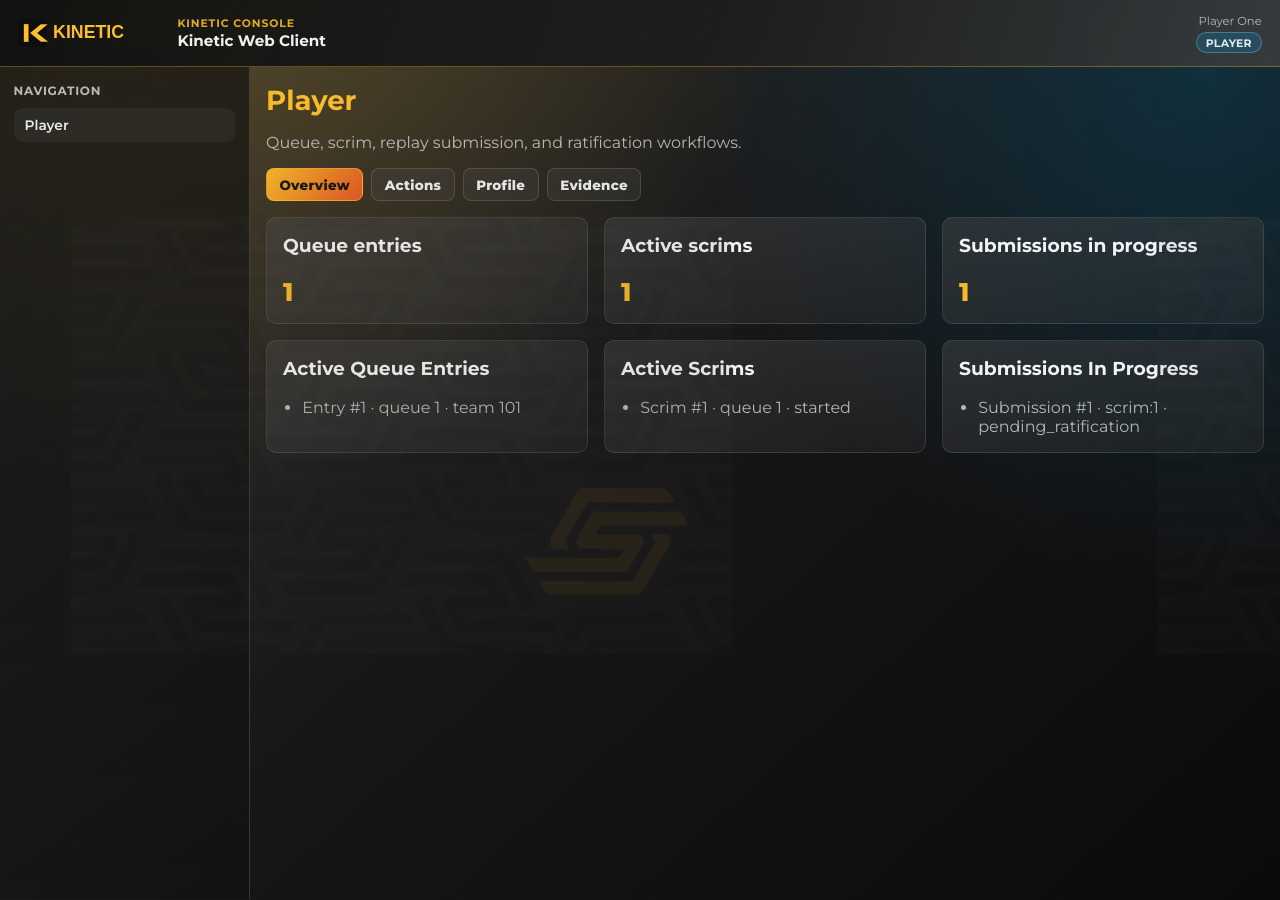
PlayerHomePage › renders player live counts
Expected: the text with test id "player-queue-count" reads "1", [283,276,293,306]
Expected: the text with test id "player-scrim-count" reads "1", [621,276,631,306]
Step 1. Click the button "Profile" → click(501, 185), box [463,168,539,201]
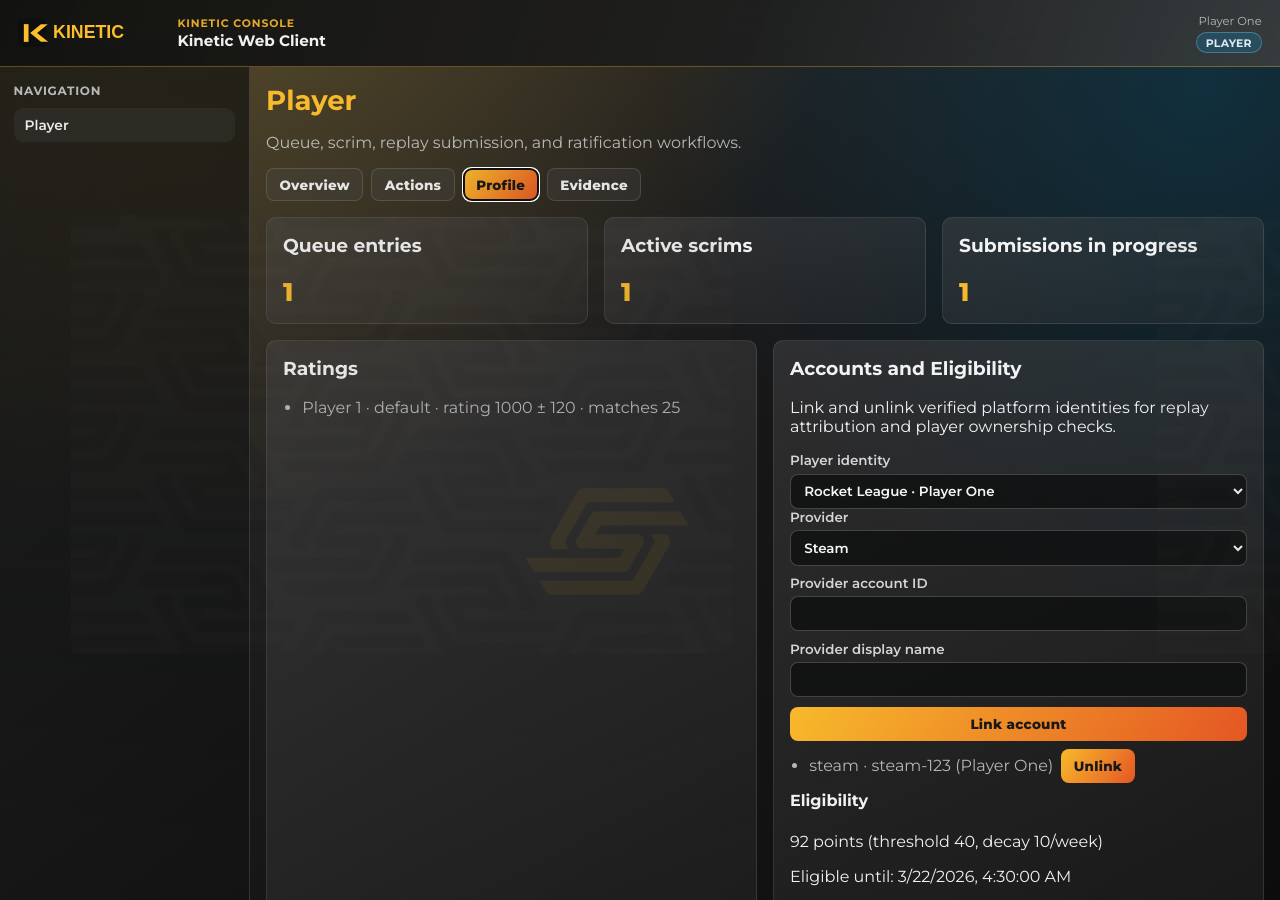
Expected: the heading "Ratings" is shown, [283,356,358,380]
Expected: the heading "Accounts and Eligibility" is shown, [790,356,1021,380]
Expected: the text "92 points (threshold 40, decay 10/week)" is shown, [790,832,1103,851]
